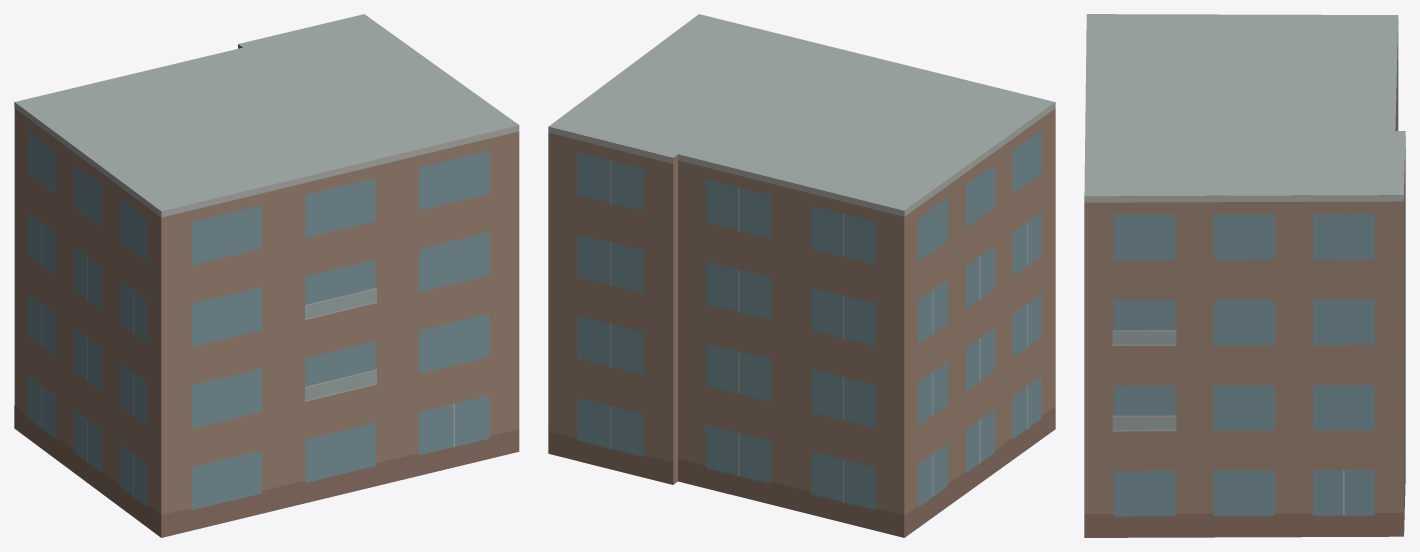
Rendered from survey-upis-32819605.glb.
3 renders of one model, left to right at view 1: azimuth 30°, elevation 25°; view 2: azimuth 150°, elevation 25°; view 3: azimuth 270°, elevation 25°, orthographic. The views are drawn at different scales.
Visible parts, largest first — view 1: survey-upis-32819605.tmp; view 2: survey-upis-32819605.tmp; view 3: survey-upis-32819605.tmp.
Boxes of the visible parts, left/top/right/bottom form: survey-upis-32819605.tmp: left=14, top=14, right=519, bottom=537; survey-upis-32819605.tmp: left=548, top=14, right=1055, bottom=537; survey-upis-32819605.tmp: left=1084, top=14, right=1405, bottom=537.
Size of the model in its own units: 14.91 by 13 by 11.09.
